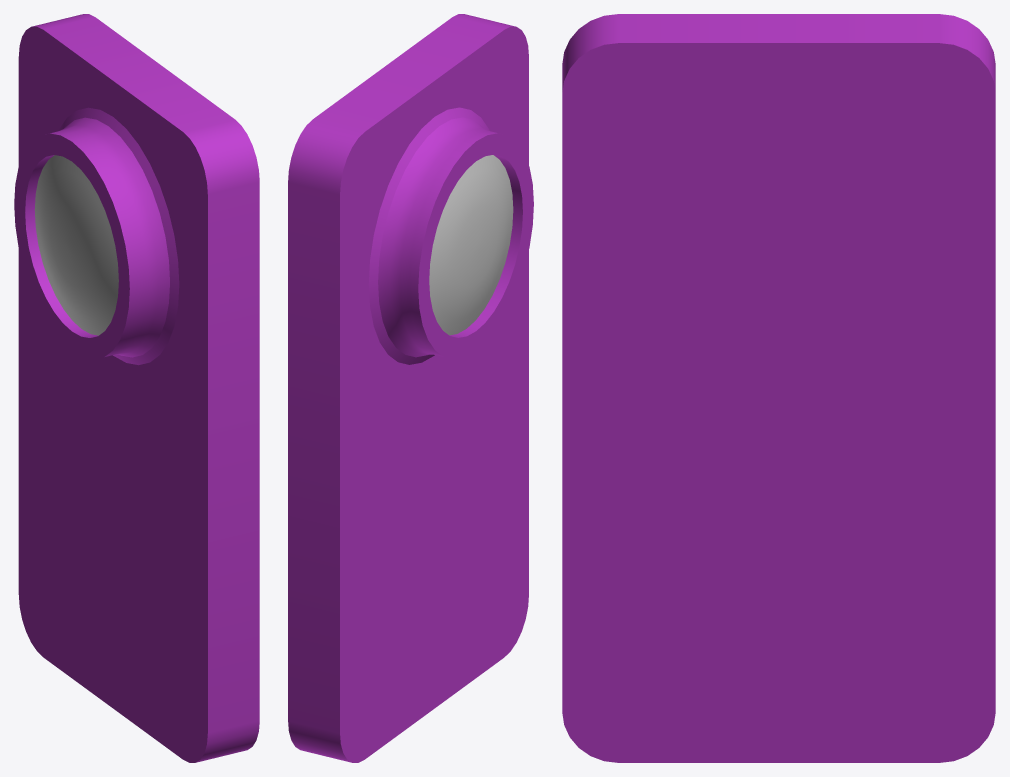
The model's file is iPhone18.obj.
3 views of the same model, side by side, from view 1: azimuth 30°, elevation 25°; view 2: azimuth 150°, elevation 25°; view 3: azimuth 270°, elevation 25° (orthographic). The views are drawn at different scales.
Parts seen in each view (by area): view 1: PhoneBody, PhoneCamera; view 2: PhoneBody, PhoneCamera; view 3: PhoneBody.
Part boxes in pixels (box(x1,y1,x2,y2)): PhoneBody: box(18, 14, 259, 762); PhoneCamera: box(14, 107, 179, 365); PhoneBody: box(288, 14, 528, 762); PhoneCamera: box(368, 107, 533, 364); PhoneBody: box(562, 14, 995, 762).
Size of the model in its own units: 1.14 by 7.16 by 3.91.
